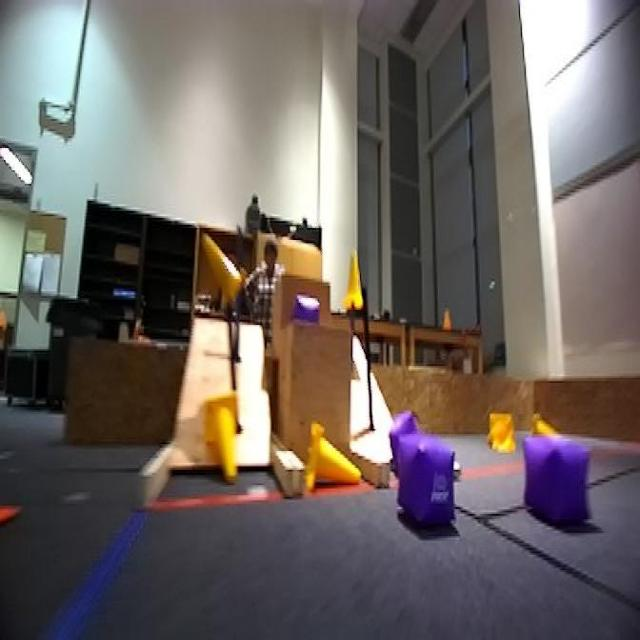frc_cone: (196, 392, 251, 484), (302, 418, 362, 498), (204, 232, 246, 308), (339, 252, 370, 313), (488, 410, 514, 451), (533, 413, 568, 438)
frc_cube: (521, 421, 596, 548), (397, 431, 457, 538), (405, 450, 443, 518), (290, 290, 328, 330)
